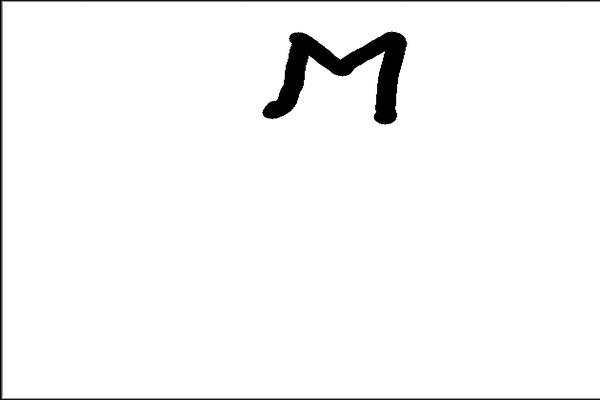M: (263, 27, 407, 129)
